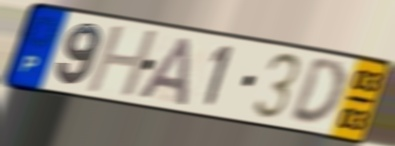1: (202, 44, 234, 111)
3: (250, 50, 302, 123)
9: (53, 20, 105, 89)
A: (135, 34, 194, 108)
D: (286, 58, 348, 130)
H: (83, 24, 162, 99)
